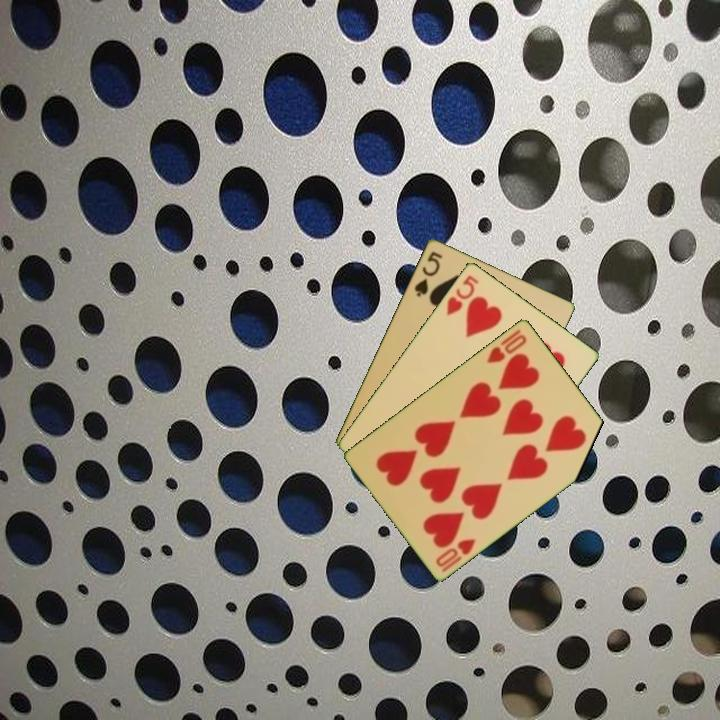10h: (483, 325, 530, 366), (432, 535, 479, 575)
5h: (443, 271, 481, 318)
5s: (410, 247, 445, 299)
